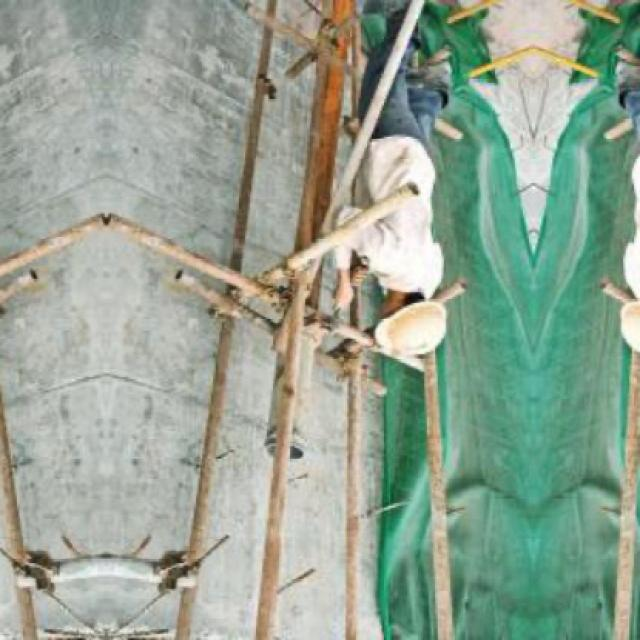con casco: (314, 246, 491, 380)
